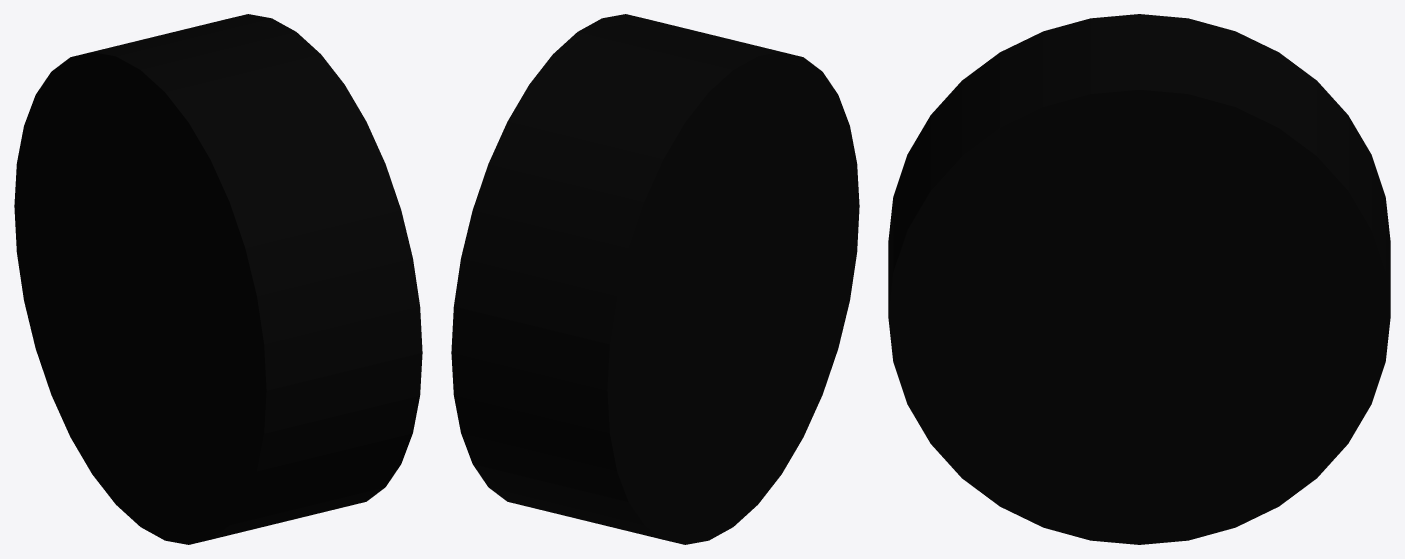
The model's file is WheelRearLeft.obj.
3 views of the same model, side by side, from view 1: azimuth 30°, elevation 25°; view 2: azimuth 150°, elevation 25°; view 3: azimuth 270°, elevation 25° (orthographic).
Parts seen in each view (by area): view 1: WheelRearLeft_Cylinder; view 2: WheelRearLeft_Cylinder; view 3: WheelRearLeft_Cylinder.
Part boxes in pixels (x1,y1,x2,y2): WheelRearLeft_Cylinder: (14,14,422,544); WheelRearLeft_Cylinder: (451,14,859,544); WheelRearLeft_Cylinder: (888,14,1390,544).
Bounding box in the file's own units: 0.5 × 1.4 × 1.4.
1 material, 1 textured.
